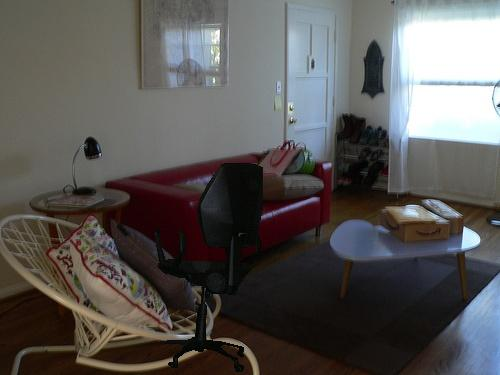tampered: (156, 164, 263, 372)
